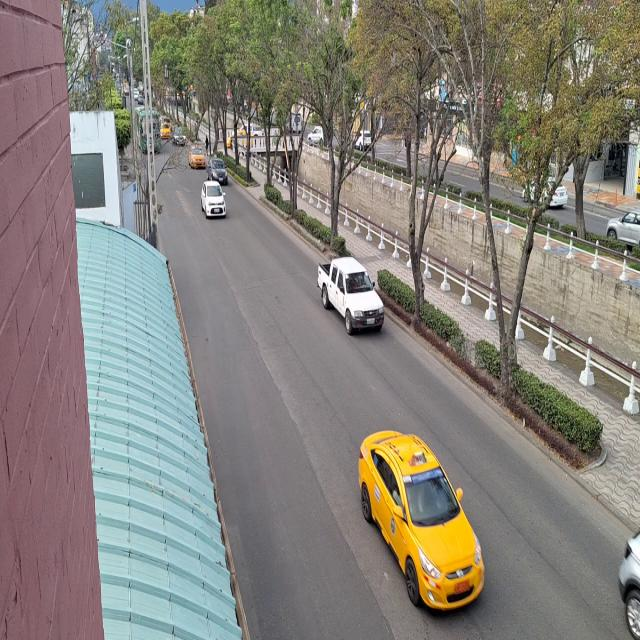CMT: (317, 256, 384, 332)
SED: (360, 430, 487, 609), (200, 180, 228, 217), (204, 154, 229, 182), (186, 144, 208, 170)
